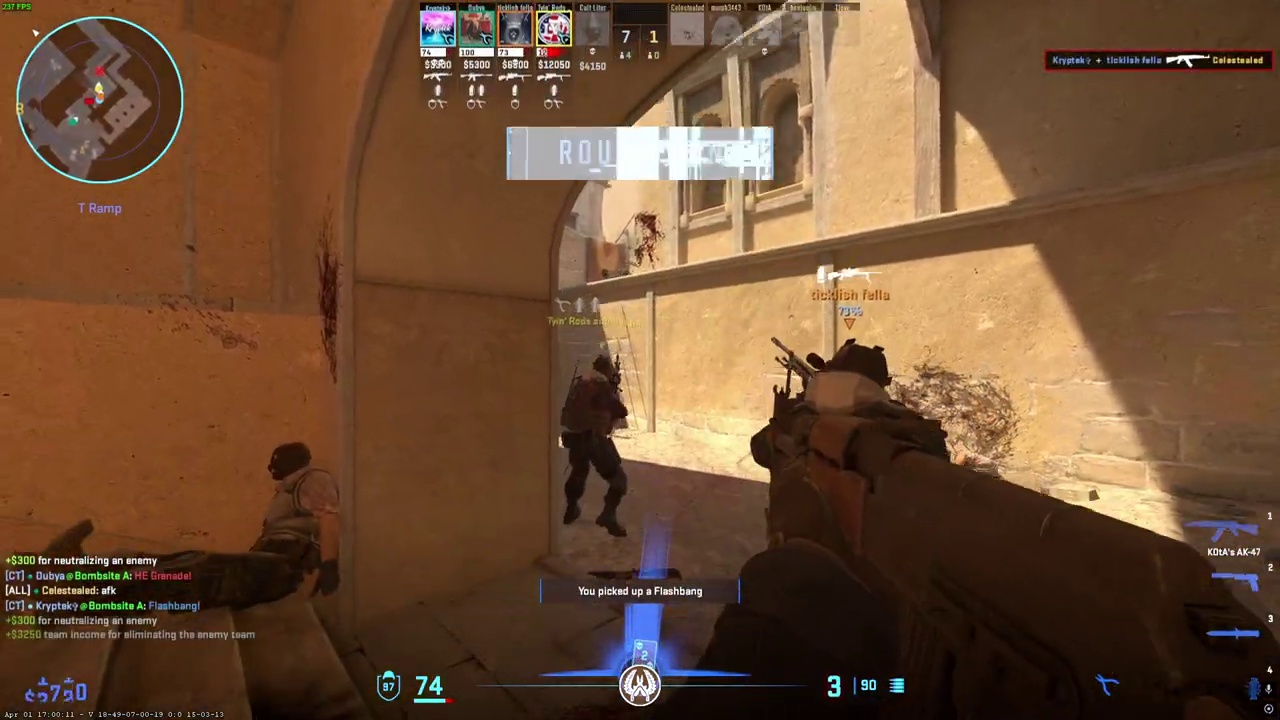CT: (769, 340, 940, 484), (560, 355, 628, 537)
